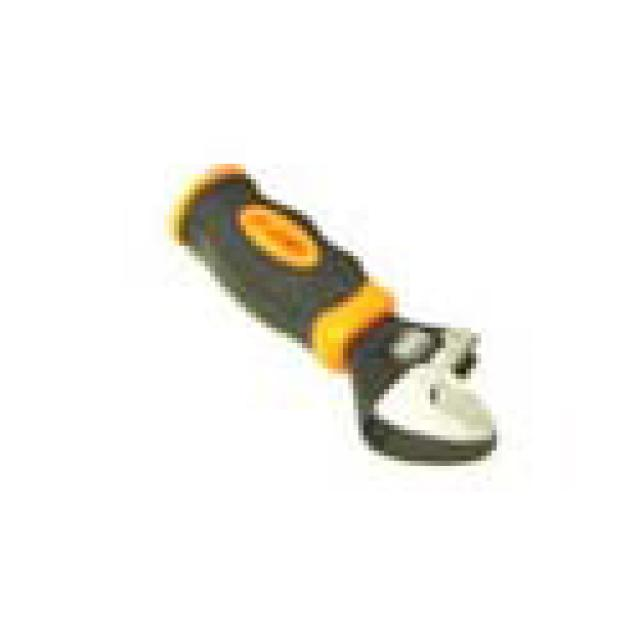wrench: (128, 124, 529, 478)
